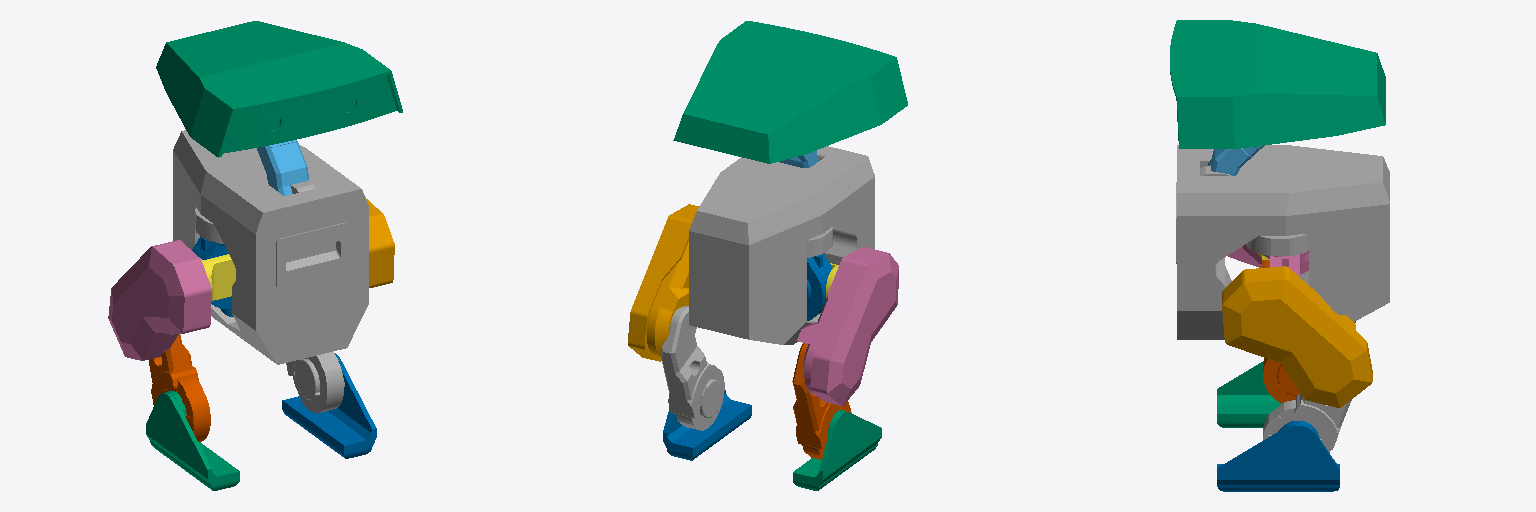
robot.urdf — v3_bdx:
<?xml version="1.0" encoding="UTF-8"?>
<robot name="v3_bdx">
  <!-- Dummy root link without inertia -->
  <link name="base_link"/>

  <!-- Fixed joint connecting base_link to sw_bd0 -->
  <joint name="fixed_base" type="fixed">
    <parent link="base_link"/>
    <child link="sw_bd0"/>
    <origin xyz="0 0 0" rpy="0 0 0"/>
  </joint>

  <joint name="head_neck_pitch" type="revolute">
    <origin xyz="-0.0013 -0.076423 0.394589" rpy="3.1415927 -0.0000001 3.1415927"/>
    <parent link="sw_bd0"/>
    <child link="neck"/>
    <axis xyz="1. 0. 0."/>
    <limit lower="-0.7853982" upper="0.7853982" effort="23.7" velocity="30"/>
  </joint>
  <joint name="head_pitch" type="revolute">
    <origin xyz="-0.0013 0.064983 -0.110687" rpy="3.1415927 0.0000001 3.1415927"/>
    <parent link="neck"/>
    <child link="head_body_pitch"/>
    <axis xyz="1. 0. 0."/>
    <limit lower="-0.7853982" upper="0.7853982" effort="15" velocity="20"/>
  </joint>
  <joint name="head_roll" type="revolute">
    <origin xyz="0.02964 0.045548 0.00005 " rpy="1.5706214 -0. 1.5706214"/>
    <parent link="head_body_yaw"/>
    <child link="head_body_roll"/>
    <axis xyz="1. 0. 0."/>
    <limit lower="-0.7853982" upper="0.7853982" effort="15" velocity="20"/>
  </joint>
  <joint name="head_yaw" type="revolute">
    <origin xyz="0. -0.000299 0.0271 " rpy="0. -1.5707963 0. "/>
    <parent link="head_body_pitch"/>
    <child link="head_body_yaw"/>
    <axis xyz="1. 0. 0."/>
    <limit lower="-0.7853982" upper="0.7853982" effort="15" velocity="20"/>
  </joint>
  <joint name="hip_abduction_left" type="revolute">
    <origin xyz="0.06335 -0.0052 0.00275" rpy="1.5707964 0. -1.5707964"/>
    <parent link="left_hip_rotation"/>
    <child link="left_hip"/>
    <axis xyz="1. 0. 0."/>
    <limit lower="-0.7853982" upper="0.7853982" effort="23.7" velocity="30"/>
  </joint>
  <joint name="hip_abduction_right" type="revolute">
    <origin xyz="0.06335 -0.0052 -0.00275" rpy="1.5707964 0. -1.5707964"/>
    <parent link="right_hip_rotation"/>
    <child link="right_hip"/>
    <axis xyz="1. 0. 0."/>
    <limit lower="-0.7853982" upper="0.7853982" effort="23.7" velocity="30"/>
  </joint>
  <joint name="hip_flexion_left" type="revolute">
    <origin xyz="0.004977 0.079601 0.000749" rpy="0. 0. 1.5707964"/>
    <parent link="left_hip"/>
    <child link="left_thigh"/>
    <axis xyz="1. 0. 0."/>
    <limit lower="-0.7853982" upper="0.7853982" effort="23.7" velocity="30"/>
  </joint>
  <joint name="hip_flexion_right" type="revolute">
    <origin xyz="0.004977 -0.079601 0.000749" rpy="3.1415927 -0.0000001 -1.5707964"/>
    <parent link="right_hip"/>
    <child link="right_thigh"/>
    <axis xyz="1. 0. 0."/>
    <limit lower="-0.7853982" upper="0.7853982" effort="23.7" velocity="30"/>
  </joint>
  <joint name="hip_rotation_left" type="revolute">
    <origin xyz="0.046658 0.013027 0.350727" rpy="0. 1.5707963 0. "/>
    <parent link="sw_bd0"/>
    <child link="left_hip_rotation"/>
    <axis xyz="1. 0. 0."/>
    <limit lower="-0.2617994" upper="0.2617994" effort="23.7" velocity="30"/>
  </joint>
  <joint name="hip_rotation_right" type="revolute">
    <origin xyz="-0.046658 0.013027 0.350727" rpy="0. 1.5707963 0. "/>
    <parent link="sw_bd0"/>
    <child link="right_hip_rotation"/>
    <axis xyz="1. 0. 0."/>
    <limit lower="-0.2617994" upper="0.2617994" effort="23.7" velocity="30"/>
  </joint>
  <joint name="thigh_joint_left" type="revolute">
    <origin xyz="0. 0.079306 -0.077708" rpy="3.1415927 -0.0000001 3.1415927"/>
    <parent link="left_thigh"/>
    <child link="left_shin"/>
    <axis xyz="1. 0. 0."/>
    <limit lower="-0.7853982" upper="0.7853982" effort="23.7" velocity="30"/>
  </joint>
  <joint name="thigh_joint_right" type="revolute">
    <origin xyz="-0. 0.079306 0.077708" rpy="3.1415927 0.0000001 3.1415927"/>
    <parent link="right_thigh"/>
    <child link="right_shin"/>
    <axis xyz="1. 0. 0."/>
    <limit lower="-0.7853982" upper="0.7853982" effort="23.7" velocity="30"/>
  </joint>
  <joint name="toe_joint_left" type="revolute">
    <origin xyz="0.011991 -0.045007 0.130142" rpy="3.1415927 0.0000001 3.1415927"/>
    <parent link="left_shin"/>
    <child link="left_foot"/>
    <axis xyz="1. 0. 0."/>
    <limit lower="-0.7853982" upper="0.7853982" effort="23.7" velocity="30"/>
  </joint>
  <joint name="toe_joint_right" type="revolute">
    <origin xyz="0.011991 -0.045007 -0.130142" rpy="3.1415927 -0.0000001 3.1415927"/>
    <parent link="right_shin"/>
    <child link="right_foot"/>
    <axis xyz="1. 0. 0."/>
    <limit lower="-0.7853982" upper="0.7853982" effort="23.7" velocity="30"/>
  </joint>
  <link name="head_body_pitch">
    <visual>
      <origin xyz="0. 0.01144 -0.505276" rpy="0. 0. 0."/>
      <geometry>
        <mesh filename="package://bdx_description/meshes/head_body_pitch_visuals.obj"/>
      </geometry>
    </visual>
    <visual>
      <origin xyz="0. 0.01144 -0.505276" rpy="0. 0. 0."/>
      <geometry>
        <mesh filename="package://bdx_description/meshes/head_body_pitch_collisions.obj"/>
      </geometry>
    </visual>
    <collision>
      <origin xyz="0. 0.01144 -0.505276" rpy="0. 0. 0."/>
      <geometry>
        <mesh filename="package://bdx_description/meshes/head_body_pitch_collisions.obj"/>
      </geometry>
    </collision>
    <inertial>
      <origin xyz="0.00021166162266480506 0.006984499391688618 0.01273686729712964" rpy="0 0 0"/>
      <mass value="0.5232206536385304"/>
      <inertia ixx="0.000112" iyy="0.000198" izz="0.000205" ixy="1e-06" iyz="-1.6e-05" ixz="1e-06"/>
    </inertial>
  </link>
  <link name="head_body_roll">
    <visual>
      <origin xyz="-0.0339074 0.0000484 -0.5620101" rpy="-0.000175 0.000175 -1.5707964"/>
      <geometry>
        <mesh filename="package://bdx_description/meshes/head_body_roll_visuals.obj"/>
      </geometry>
    </visual>
    <visual>
      <origin xyz="-0.0339074 0.0000484 -0.5620101" rpy="-0.000175 0.000175 -1.5707964"/>
      <geometry>
        <mesh filename="package://bdx_description/meshes/head_body_roll_collisions.obj"/>
      </geometry>
    </visual>
    <collision>
      <origin xyz="-0.0339074 0.0000484 -0.5620101" rpy="-0.000175 0.000175 -1.5707964"/>
      <geometry>
        <mesh filename="package://bdx_description/meshes/head_body_roll_collisions.obj"/>
      </geometry>
    </collision>
    <inertial>
      <origin xyz="-0.0005152722414162986 -0.05158004964580376 0.00513643993688484" rpy="0 0 0"/>
      <mass value="5.0942155694527305"/>
      <inertia ixx="0.039562" iyy="0.030187" izz="0.063238" ixy="2e-05" iyz="0.001552" ixz="9e-06"/>
    </inertial>
  </link>
  <link name="head_body_yaw">
    <visual>
      <origin xyz="-0.532376 0.011739 0. " rpy="0. 1.5707963 0. "/>
      <geometry>
        <mesh filename="package://bdx_description/meshes/head_body_yaw_visuals.obj"/>
      </geometry>
    </visual>
    <visual>
      <origin xyz="-0.532376 0.011739 0. " rpy="0. 1.5707963 0. "/>
      <geometry>
        <mesh filename="package://bdx_description/meshes/head_body_yaw_collisions.obj"/>
      </geometry>
    </visual>
    <collision>
      <origin xyz="-0.532376 0.011739 0. " rpy="0. 1.5707963 0. "/>
      <geometry>
        <mesh filename="package://bdx_description/meshes/head_body_yaw_collisions.obj"/>
      </geometry>
    </collision>
    <inertial>
      <origin xyz="-3.900708192695237e-05 0.0036768514711653048 0.022423787552204644" rpy="0 0 0"/>
      <mass value="0.7884788831732902"/>
      <inertia ixx="0.000545" iyy="0.000245" izz="0.00055" ixy="0.0" iyz="-1e-05" ixz="0.0"/>
    </inertial>
  </link>
  <link name="left_foot">
    <visual>
      <origin xyz="-0.117018 -0.037149 -0.080276" rpy="0. 0. 0."/>
      <geometry>
        <mesh filename="package://bdx_description/meshes/left_foot_visuals.obj"/>
      </geometry>
    </visual>
    <visual>
      <origin xyz="-0.117018 -0.037149 -0.080276" rpy="0. 0. 0."/>
      <geometry>
        <mesh filename="package://bdx_description/meshes/left_foot_collisions.obj"/>
      </geometry>
    </visual>
    <collision>
      <origin xyz="-0.117018 -0.037149 -0.080276" rpy="0. 0. 0."/>
      <geometry>
        <mesh filename="package://bdx_description/meshes/left_foot_collisions.obj"/>
      </geometry>
    </collision>
    <inertial>
      <origin xyz="-0.004317824098437145 -0.022539625010942255 -0.05014233472325014" rpy="0 0 0"/>
      <mass value="2.196651599731846"/>
      <inertia ixx="0.006073" iyy="0.00203" izz="0.005022" ixy="-0.000115" iyz="-0.000449" ixz="-0.000495"/>
    </inertial>
  </link>
  <link name="left_hip">
    <visual>
      <origin xyz="0.007827 -0.049408 -0.287377" rpy="0. 0. 1.5707964"/>
      <geometry>
        <mesh filename="package://bdx_description/meshes/left_hip_visuals.obj"/>
      </geometry>
    </visual>
    <visual>
      <origin xyz="0.007827 -0.049408 -0.287377" rpy="0. 0. 1.5707964"/>
      <geometry>
        <mesh filename="package://bdx_description/meshes/left_hip_collisions.obj"/>
      </geometry>
    </visual>
    <collision>
      <origin xyz="0.007827 -0.049408 -0.287377" rpy="0. 0. 1.5707964"/>
      <geometry>
        <mesh filename="package://bdx_description/meshes/left_hip_collisions.obj"/>
      </geometry>
    </collision>
    <inertial>
      <origin xyz="0.03758545882228228 -0.008742267643225502 0.0005073004766672495" rpy="0 0 0"/>
      <mass value="1.2525665319575872"/>
      <inertia ixx="0.000491" iyy="0.001604" izz="0.001478" ixy="-8.9e-05" iyz="2e-06" ixz="-4e-06"/>
    </inertial>
  </link>
  <link name="left_hip_rotation">
    <visual>
      <origin xyz="0.350727 -0.013027 -0.046658" rpy="0. -1.5707963 0. "/>
      <geometry>
        <mesh filename="package://bdx_description/meshes/left_hip_rotation_visuals.obj"/>
      </geometry>
    </visual>
    <visual>
      <origin xyz="0.350727 -0.013027 -0.046658" rpy="0. -1.5707963 0. "/>
      <geometry>
        <mesh filename="package://bdx_description/meshes/left_hip_rotation_collisions.obj"/>
      </geometry>
    </visual>
    <collision>
      <origin xyz="0.350727 -0.013027 -0.046658" rpy="0. -1.5707963 0. "/>
      <geometry>
        <mesh filename="package://bdx_description/meshes/left_hip_rotation_collisions.obj"/>
      </geometry>
    </collision>
    <inertial>
      <origin xyz="0.003476916493858888 0.0053298176720920735 -0.05718740567578556" rpy="0 0 0"/>
      <mass value="2.7104129345182724"/>
      <inertia ixx="0.00322" iyy="0.004455" izz="0.001963" ixy="-4e-06" iyz="3e-05" ixz="4.3e-05"/>
    </inertial>
  </link>
  <link name="left_shin">
    <visual>
      <origin xyz="0.129009 -0.082156 0.210418" rpy="3.1415927 0.0000001 3.1415927"/>
      <geometry>
        <mesh filename="package://bdx_description/meshes/left_shin_visuals.obj"/>
      </geometry>
    </visual>
    <visual>
      <origin xyz="0.129009 -0.082156 0.210418" rpy="3.1415927 0.0000001 3.1415927"/>
      <geometry>
        <mesh filename="package://bdx_description/meshes/left_shin_collisions.obj"/>
      </geometry>
    </visual>
    <collision>
      <origin xyz="0.129009 -0.082156 0.210418" rpy="3.1415927 0.0000001 3.1415927"/>
      <geometry>
        <mesh filename="package://bdx_description/meshes/left_shin_collisions.obj"/>
      </geometry>
    </collision>
    <inertial>
      <origin xyz="-0.022337864800614962 -0.02138729956553212 -0.08585627245860046" rpy="0 0 0"/>
      <mass value="3.533655907847469"/>
      <inertia ixx="0.013524" iyy="0.010593" izz="0.00365" ixy="-0.000238" iyz="-0.003425" ixz="-0.000634"/>
    </inertial>
  </link>
  <link name="left_thigh">
    <visual>
      <origin xyz="-0.129009 -0.00285 -0.288126" rpy="0. 0. 0."/>
      <geometry>
        <mesh filename="package://bdx_description/meshes/left_thigh_visuals.obj"/>
      </geometry>
    </visual>
    <visual>
      <origin xyz="-0.129009 -0.00285 -0.288126" rpy="0. 0. 0."/>
      <geometry>
        <mesh filename="package://bdx_description/meshes/left_thigh_collisions.obj"/>
      </geometry>
    </visual>
    <collision>
      <origin xyz="-0.129009 -0.00285 -0.288126" rpy="0. 0. 0."/>
      <geometry>
        <mesh filename="package://bdx_description/meshes/left_thigh_collisions.obj"/>
      </geometry>
    </collision>
    <inertial>
      <origin xyz="0.017133138774223372 0.033955639219308796 -0.034203295112669785" rpy="0 0 0"/>
      <mass value="9.79771075244762"/>
      <inertia ixx="0.045664" iyy="0.023224" izz="0.02779" ixy="0.000209" iyz="0.013684" ixz="2.8e-05"/>
    </inertial>
  </link>
  <link name="neck">
    <visual>
      <origin xyz="-0.0013 0.076423 0.394589" rpy="3.1415927 0.0000001 3.1415927"/>
      <geometry>
        <mesh filename="package://bdx_description/meshes/neck_visuals.obj"/>
      </geometry>
    </visual>
    <visual>
      <origin xyz="-0.0013 0.076423 0.394589" rpy="3.1415927 0.0000001 3.1415927"/>
      <geometry>
        <mesh filename="package://bdx_description/meshes/neck_collisions.obj"/>
      </geometry>
    </visual>
    <collision>
      <origin xyz="-0.0013 0.076423 0.394589" rpy="3.1415927 0.0000001 3.1415927"/>
      <geometry>
        <mesh filename="package://bdx_description/meshes/neck_collisions.obj"/>
      </geometry>
    </collision>
    <inertial>
      <origin xyz="-0.004042027280354878 0.02470566499069614 0.05563012545350571" rpy="0 0 0"/>
      <mass value="1.8541562983293536"/>
      <inertia ixx="0.00435" iyy="0.003545" izz="0.001491" ixy="-0.000163" iyz="-0.001516" ixz="-0.000383"/>
    </inertial>
  </link>
  <link name="right_foot">
    <visual>
      <origin xyz="-0.117018 -0.037149 0.080276" rpy="3.1415927 0.0000001 3.1415927"/>
      <geometry>
        <mesh filename="package://bdx_description/meshes/right_foot_visuals.obj"/>
      </geometry>
    </visual>
    <visual>
      <origin xyz="-0.117018 -0.037149 0.080276" rpy="3.1415927 0.0000001 3.1415927"/>
      <geometry>
        <mesh filename="package://bdx_description/meshes/right_foot_collisions.obj"/>
      </geometry>
    </visual>
    <collision>
      <origin xyz="-0.117018 -0.037149 0.080276" rpy="3.1415927 0.0000001 3.1415927"/>
      <geometry>
        <mesh filename="package://bdx_description/meshes/right_foot_collisions.obj"/>
      </geometry>
    </collision>
    <inertial>
      <origin xyz="0.004317818616470584 -0.022539625010942255 -0.05014233472325015" rpy="0 0 0"/>
      <mass value="2.196651599731845"/>
      <inertia ixx="0.006073" iyy="0.00203" izz="0.005022" ixy="0.000115" iyz="-0.000449" ixz="0.000495"/>
    </inertial>
  </link>
  <link name="right_hip">
    <visual>
      <origin xyz="0.007827 0.049408 -0.287377" rpy="0. 0. 1.5707964"/>
      <geometry>
        <mesh filename="package://bdx_description/meshes/right_hip_visuals.obj"/>
      </geometry>
    </visual>
    <visual>
      <origin xyz="0.007827 0.049408 -0.287377" rpy="0. 0. 1.5707964"/>
      <geometry>
        <mesh filename="package://bdx_description/meshes/right_hip_collisions.obj"/>
      </geometry>
    </visual>
    <collision>
      <origin xyz="0.007827 0.049408 -0.287377" rpy="0. 0. 1.5707964"/>
      <geometry>
        <mesh filename="package://bdx_description/meshes/right_hip_collisions.obj"/>
      </geometry>
    </collision>
    <inertial>
      <origin xyz="-0.037585464304248785 -0.00874226764322552 0.0005073004766671385" rpy="0 0 0"/>
      <mass value="1.2525665319575874"/>
      <inertia ixx="0.000491" iyy="0.001604" izz="0.001478" ixy="8.9e-05" iyz="2e-06" ixz="4e-06"/>
    </inertial>
  </link>
  <link name="right_hip_rotation">
    <visual>
      <origin xyz="0.350727 -0.013027 0.046658" rpy="0. -1.5707963 0. "/>
      <geometry>
        <mesh filename="package://bdx_description/meshes/right_hip_rotation_visuals.obj"/>
      </geometry>
    </visual>
    <visual>
      <origin xyz="0.350727 -0.013027 0.046658" rpy="0. -1.5707963 0. "/>
      <geometry>
        <mesh filename="package://bdx_description/meshes/right_hip_rotation_collisions.obj"/>
      </geometry>
    </visual>
    <collision>
      <origin xyz="0.350727 -0.013027 0.046658" rpy="0. -1.5707963 0. "/>
      <geometry>
        <mesh filename="package://bdx_description/meshes/right_hip_rotation_collisions.obj"/>
      </geometry>
    </collision>
    <inertial>
      <origin xyz="-0.0034769226818922236 0.005329819672309381 -0.05718740698283692" rpy="0 0 0"/>
      <mass value="2.710413234826848"/>
      <inertia ixx="0.00322" iyy="0.004455" izz="0.001963" ixy="4e-06" iyz="3e-05" ixz="-4.3e-05"/>
    </inertial>
  </link>
  <link name="right_shin">
    <visual>
      <origin xyz="0.129009 -0.082156 -0.210418" rpy="0. 0. 0."/>
      <geometry>
        <mesh filename="package://bdx_description/meshes/right_shin_visuals.obj"/>
      </geometry>
    </visual>
    <visual>
      <origin xyz="0.129009 -0.082156 -0.210418" rpy="0. 0. 0."/>
      <geometry>
        <mesh filename="package://bdx_description/meshes/right_shin_collisions.obj"/>
      </geometry>
    </visual>
    <collision>
      <origin xyz="0.129009 -0.082156 -0.210418" rpy="0. 0. 0."/>
      <geometry>
        <mesh filename="package://bdx_description/meshes/right_shin_collisions.obj"/>
      </geometry>
    </collision>
    <inertial>
      <origin xyz="0.022337859585607883 -0.02138729987531795 -0.08585627297390336" rpy="0 0 0"/>
      <mass value="3.5336559525083544"/>
      <inertia ixx="0.013524" iyy="0.010593" izz="0.00365" ixy="0.000238" iyz="-0.003425" ixz="0.000634"/>
    </inertial>
  </link>
  <link name="right_thigh">
    <visual>
      <origin xyz="-0.129009 -0.00285 0.288126" rpy="3.1415927 0.0000001 3.1415927"/>
      <geometry>
        <mesh filename="package://bdx_description/meshes/right_thigh_visuals.obj"/>
      </geometry>
    </visual>
    <visual>
      <origin xyz="-0.129009 -0.00285 0.288126" rpy="3.1415927 0.0000001 3.1415927"/>
      <geometry>
        <mesh filename="package://bdx_description/meshes/right_thigh_collisions.obj"/>
      </geometry>
    </visual>
    <collision>
      <origin xyz="-0.129009 -0.00285 0.288126" rpy="3.1415927 0.0000001 3.1415927"/>
      <geometry>
        <mesh filename="package://bdx_description/meshes/right_thigh_collisions.obj"/>
      </geometry>
    </collision>
    <inertial>
      <origin xyz="-0.01713314425618992 0.033955639219308775 -0.03420329511266973" rpy="0 0 0"/>
      <mass value="9.797710752447612"/>
      <inertia ixx="0.045664" iyy="0.023224" izz="0.02779" ixy="-0.000209" iyz="0.013684" ixz="-2.8e-05"/>
    </inertial>
  </link>
  <link name="sw_bd0">
    <visual>
      <origin xyz="0. 0. 0." rpy="0. 0. 0."/>
      <geometry>
        <mesh filename="package://bdx_description/meshes/pelvis_visuals.obj"/>
      </geometry>
    </visual>
    <visual>
      <origin xyz="0. 0. 0." rpy="0. 0. 0."/>
      <geometry>
        <mesh filename="package://bdx_description/meshes/pelvis_collisions.obj"/>
      </geometry>
    </visual>
    <collision>
      <origin xyz="0. 0. 0." rpy="0. 0. 0."/>
      <geometry>
        <mesh filename="package://bdx_description/meshes/pelvis_collisions.obj"/>
      </geometry>
    </collision>
    <inertial>
      <origin xyz="0.000295994068282851 0.007955095459404031 0.3364252274377364" rpy="0 0 0"/>
      <mass value="58.84451460019125"/>
      <inertia ixx="0.742196" iyy="0.390346" izz="0.59813" ixy="0.001443" iyz="-0.018987" ixz="-0.001018"/>
    </inertial>
  </link>
</robot>

--- Render facts (derived) ---
The picture shows the robot from 3 angles, left to right: view 1: azimuth 30°, elevation 25°; view 2: azimuth 150°, elevation 25°; view 3: azimuth 270°, elevation 25°; orthographic projection.
Robot: v3_bdx — 16 links, 15 joints (14 revolute, 1 fixed); root link base_link; default pose: all joints at 0.
Links seen in each view (by area): view 1: sw_bd0, head_body_roll, right_thigh, right_foot, left_foot, right_shin, left_shin, neck, left_thigh, right_hip, right_hip_rotation; view 2: sw_bd0, head_body_roll, right_thigh, left_thigh, left_shin, right_foot, left_foot, right_shin, right_hip_rotation; view 3: sw_bd0, head_body_roll, left_thigh, left_foot, right_foot, left_shin, right_shin, neck, right_thigh.
Boxes of the visible links, x1=… form: sw_bd0: x1=173, y1=130, x2=368, y2=364; head_body_roll: x1=156, y1=21, x2=402, y2=157; right_thigh: x1=108, y1=240, x2=211, y2=360; right_foot: x1=146, y1=391, x2=239, y2=490; left_foot: x1=282, y1=353, x2=376, y2=458; right_shin: x1=149, y1=334, x2=210, y2=441; left_shin: x1=286, y1=351, x2=344, y2=412; neck: x1=257, y1=140, x2=308, y2=195; left_thigh: x1=366, y1=199, x2=394, y2=287; right_hip: x1=201, y1=254, x2=235, y2=300; right_hip_rotation: x1=192, y1=236, x2=233, y2=316; sw_bd0: x1=689, y1=146, x2=874, y2=344; head_body_roll: x1=673, y1=21, x2=907, y2=163; right_thigh: x1=797, y1=247, x2=898, y2=405; left_thigh: x1=628, y1=204, x2=698, y2=361; left_shin: x1=661, y1=306, x2=724, y2=430; right_foot: x1=793, y1=409, x2=881, y2=490; left_foot: x1=663, y1=390, x2=751, y2=460; right_shin: x1=792, y1=343, x2=851, y2=459; right_hip_rotation: x1=807, y1=253, x2=832, y2=320; sw_bd0: x1=1176, y1=145, x2=1389, y2=339; head_body_roll: x1=1170, y1=20, x2=1385, y2=148; left_thigh: x1=1222, y1=266, x2=1372, y2=407; left_foot: x1=1217, y1=421, x2=1339, y2=491; right_foot: x1=1217, y1=361, x2=1281, y2=427; left_shin: x1=1263, y1=394, x2=1351, y2=452; right_shin: x1=1263, y1=321, x2=1355, y2=403; neck: x1=1207, y1=145, x2=1264, y2=175; right_thigh: x1=1228, y1=244, x2=1308, y2=274.
Size in the robot's own frame: 0.3519 by 0.3054 by 0.6063 metres.
Meshes: 30 distinct files referenced, 16 mesh visuals loaded (16 OBJ); not drawn: 14 (reference not matched to a file when rendering).